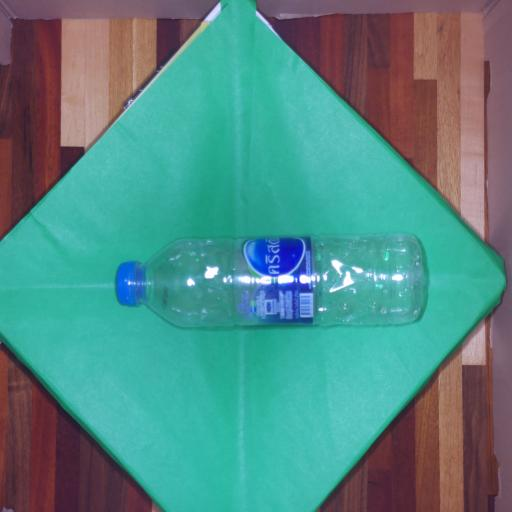bottle: (117, 235, 423, 327)
